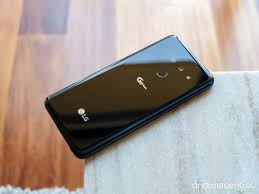lg: (43, 34, 216, 163)
